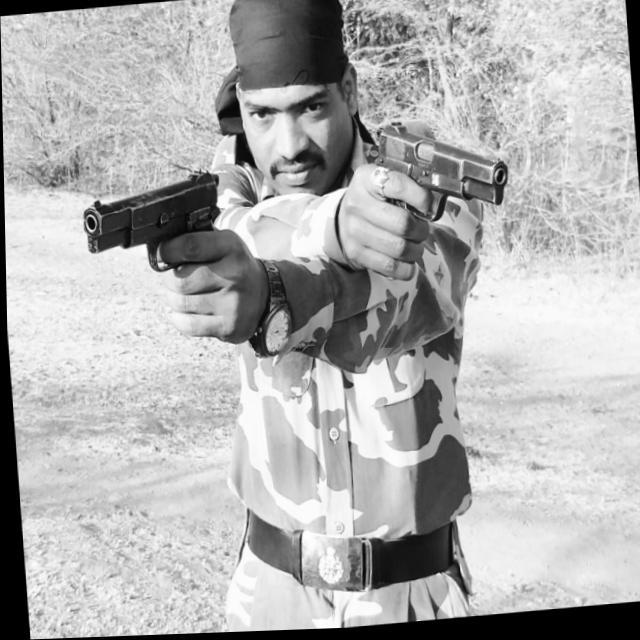weapon: (74, 163, 236, 348), (351, 115, 520, 290)
